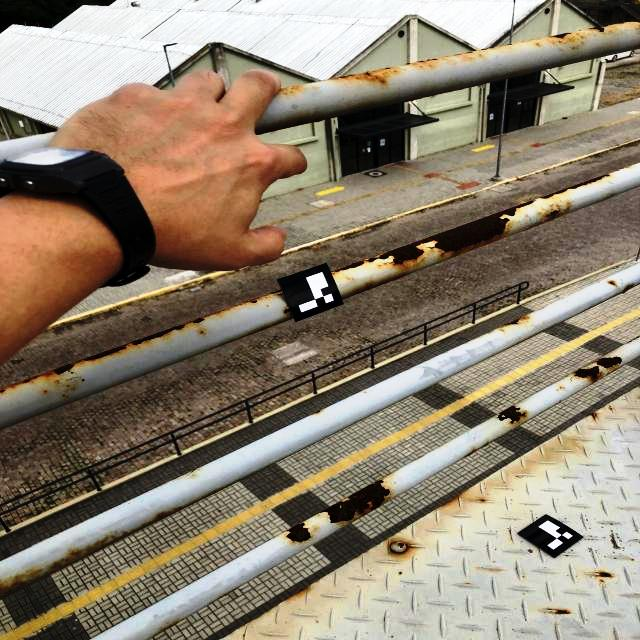Corrosion: (331, 173, 614, 275), (0, 303, 244, 395), (0, 507, 188, 599), (318, 476, 392, 524), (545, 19, 640, 47), (326, 66, 398, 85), (450, 41, 527, 56), (496, 405, 527, 425), (283, 522, 312, 543), (543, 201, 572, 219), (573, 365, 603, 382), (494, 315, 530, 329), (439, 492, 463, 507), (596, 357, 624, 369), (402, 58, 441, 66), (280, 85, 305, 96), (267, 289, 284, 296), (244, 297, 261, 304), (626, 336, 640, 344), (598, 571, 613, 577), (557, 609, 572, 615), (608, 280, 618, 286), (283, 308, 291, 314), (397, 542, 404, 548), (591, 412, 597, 418), (480, 499, 486, 501)
